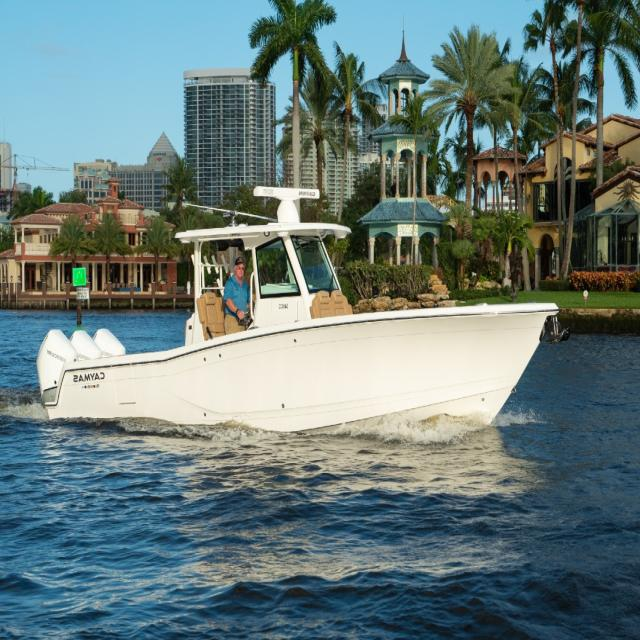Fishing Boat: (43, 149, 562, 502)
